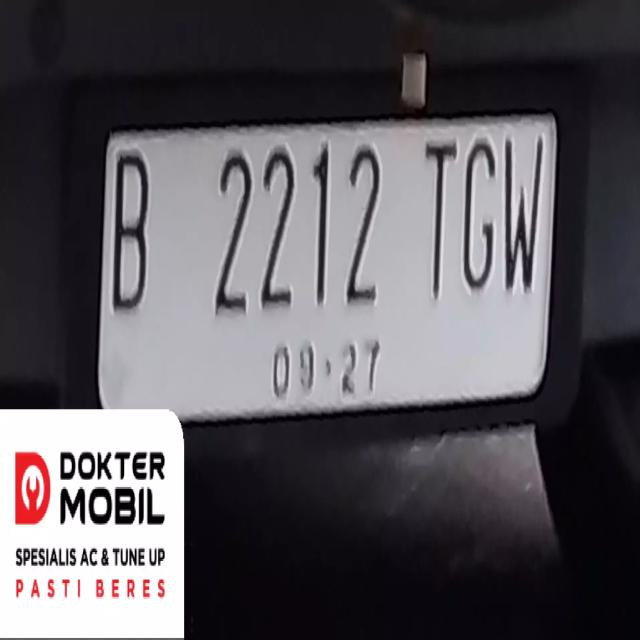license-plat: (100, 117, 562, 431)
